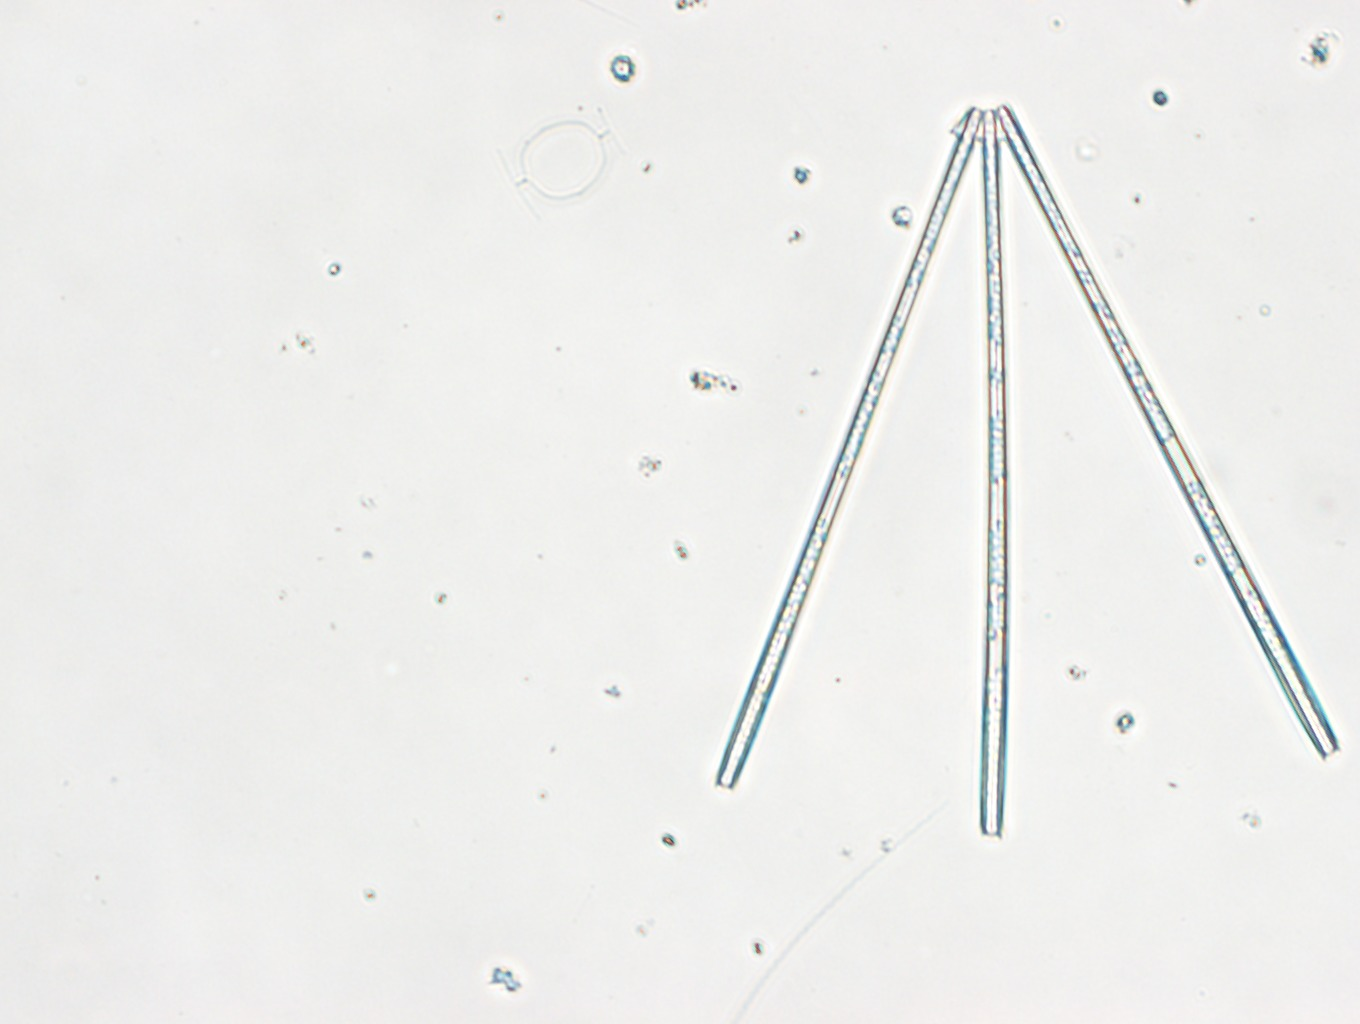eucampia: (498, 110, 624, 219)
thalassionema frauenfeldii: (715, 100, 1338, 837)
